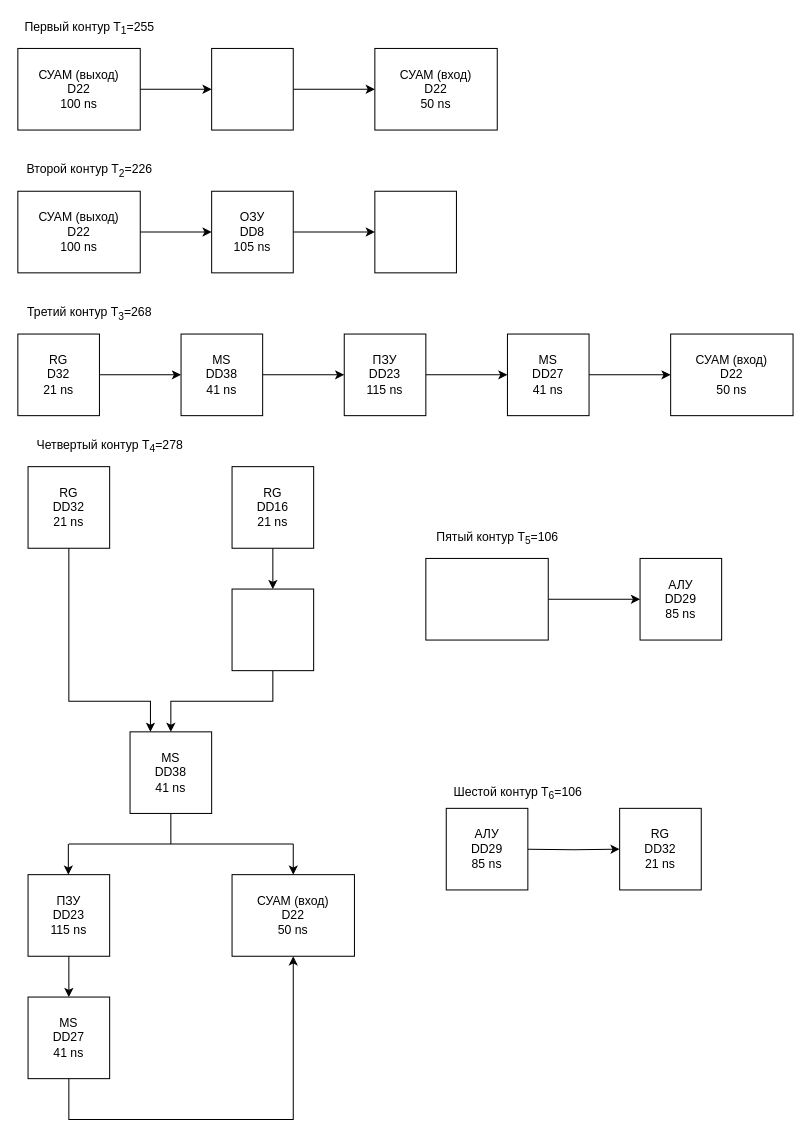
The diagram is 811 pixels wide and 1145 high, and some of its shapes have lost their labels. The box of each missing label's shape, as (x1, y1, x2, y2) in pixels:
RG DD11-DD18 21 ns: (425, 557, 548, 640)
RG DD12 21 ns: (374, 190, 456, 273)
И-НЕ DD33.2 10 ns: (231, 588, 314, 671)
ОЗУ DD10 105 ns: (211, 47, 293, 130)
